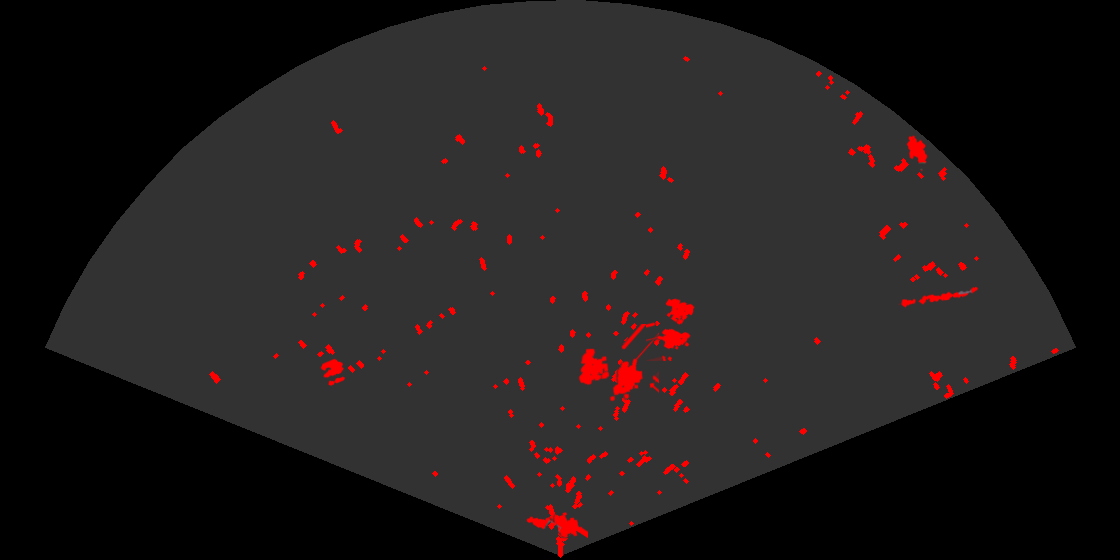AUV: (905, 134, 929, 173)
ball: (319, 357, 347, 387)
cage: (577, 324, 659, 403), (646, 297, 696, 361)
chain: (898, 285, 980, 309)
frogman: (525, 511, 588, 540)
